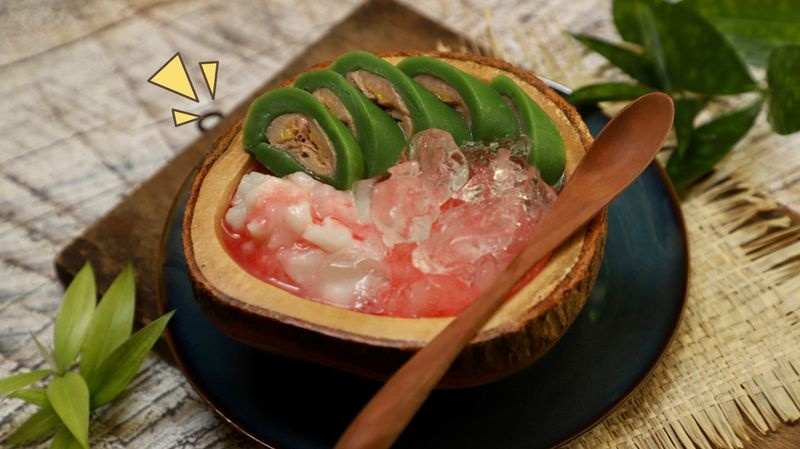es_pisang_ijo: (226, 54, 577, 318)
